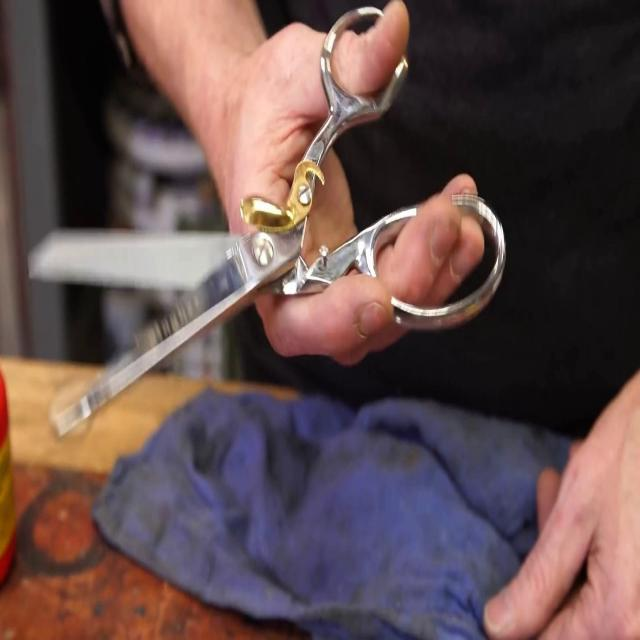scissor: (27, 6, 504, 440)
